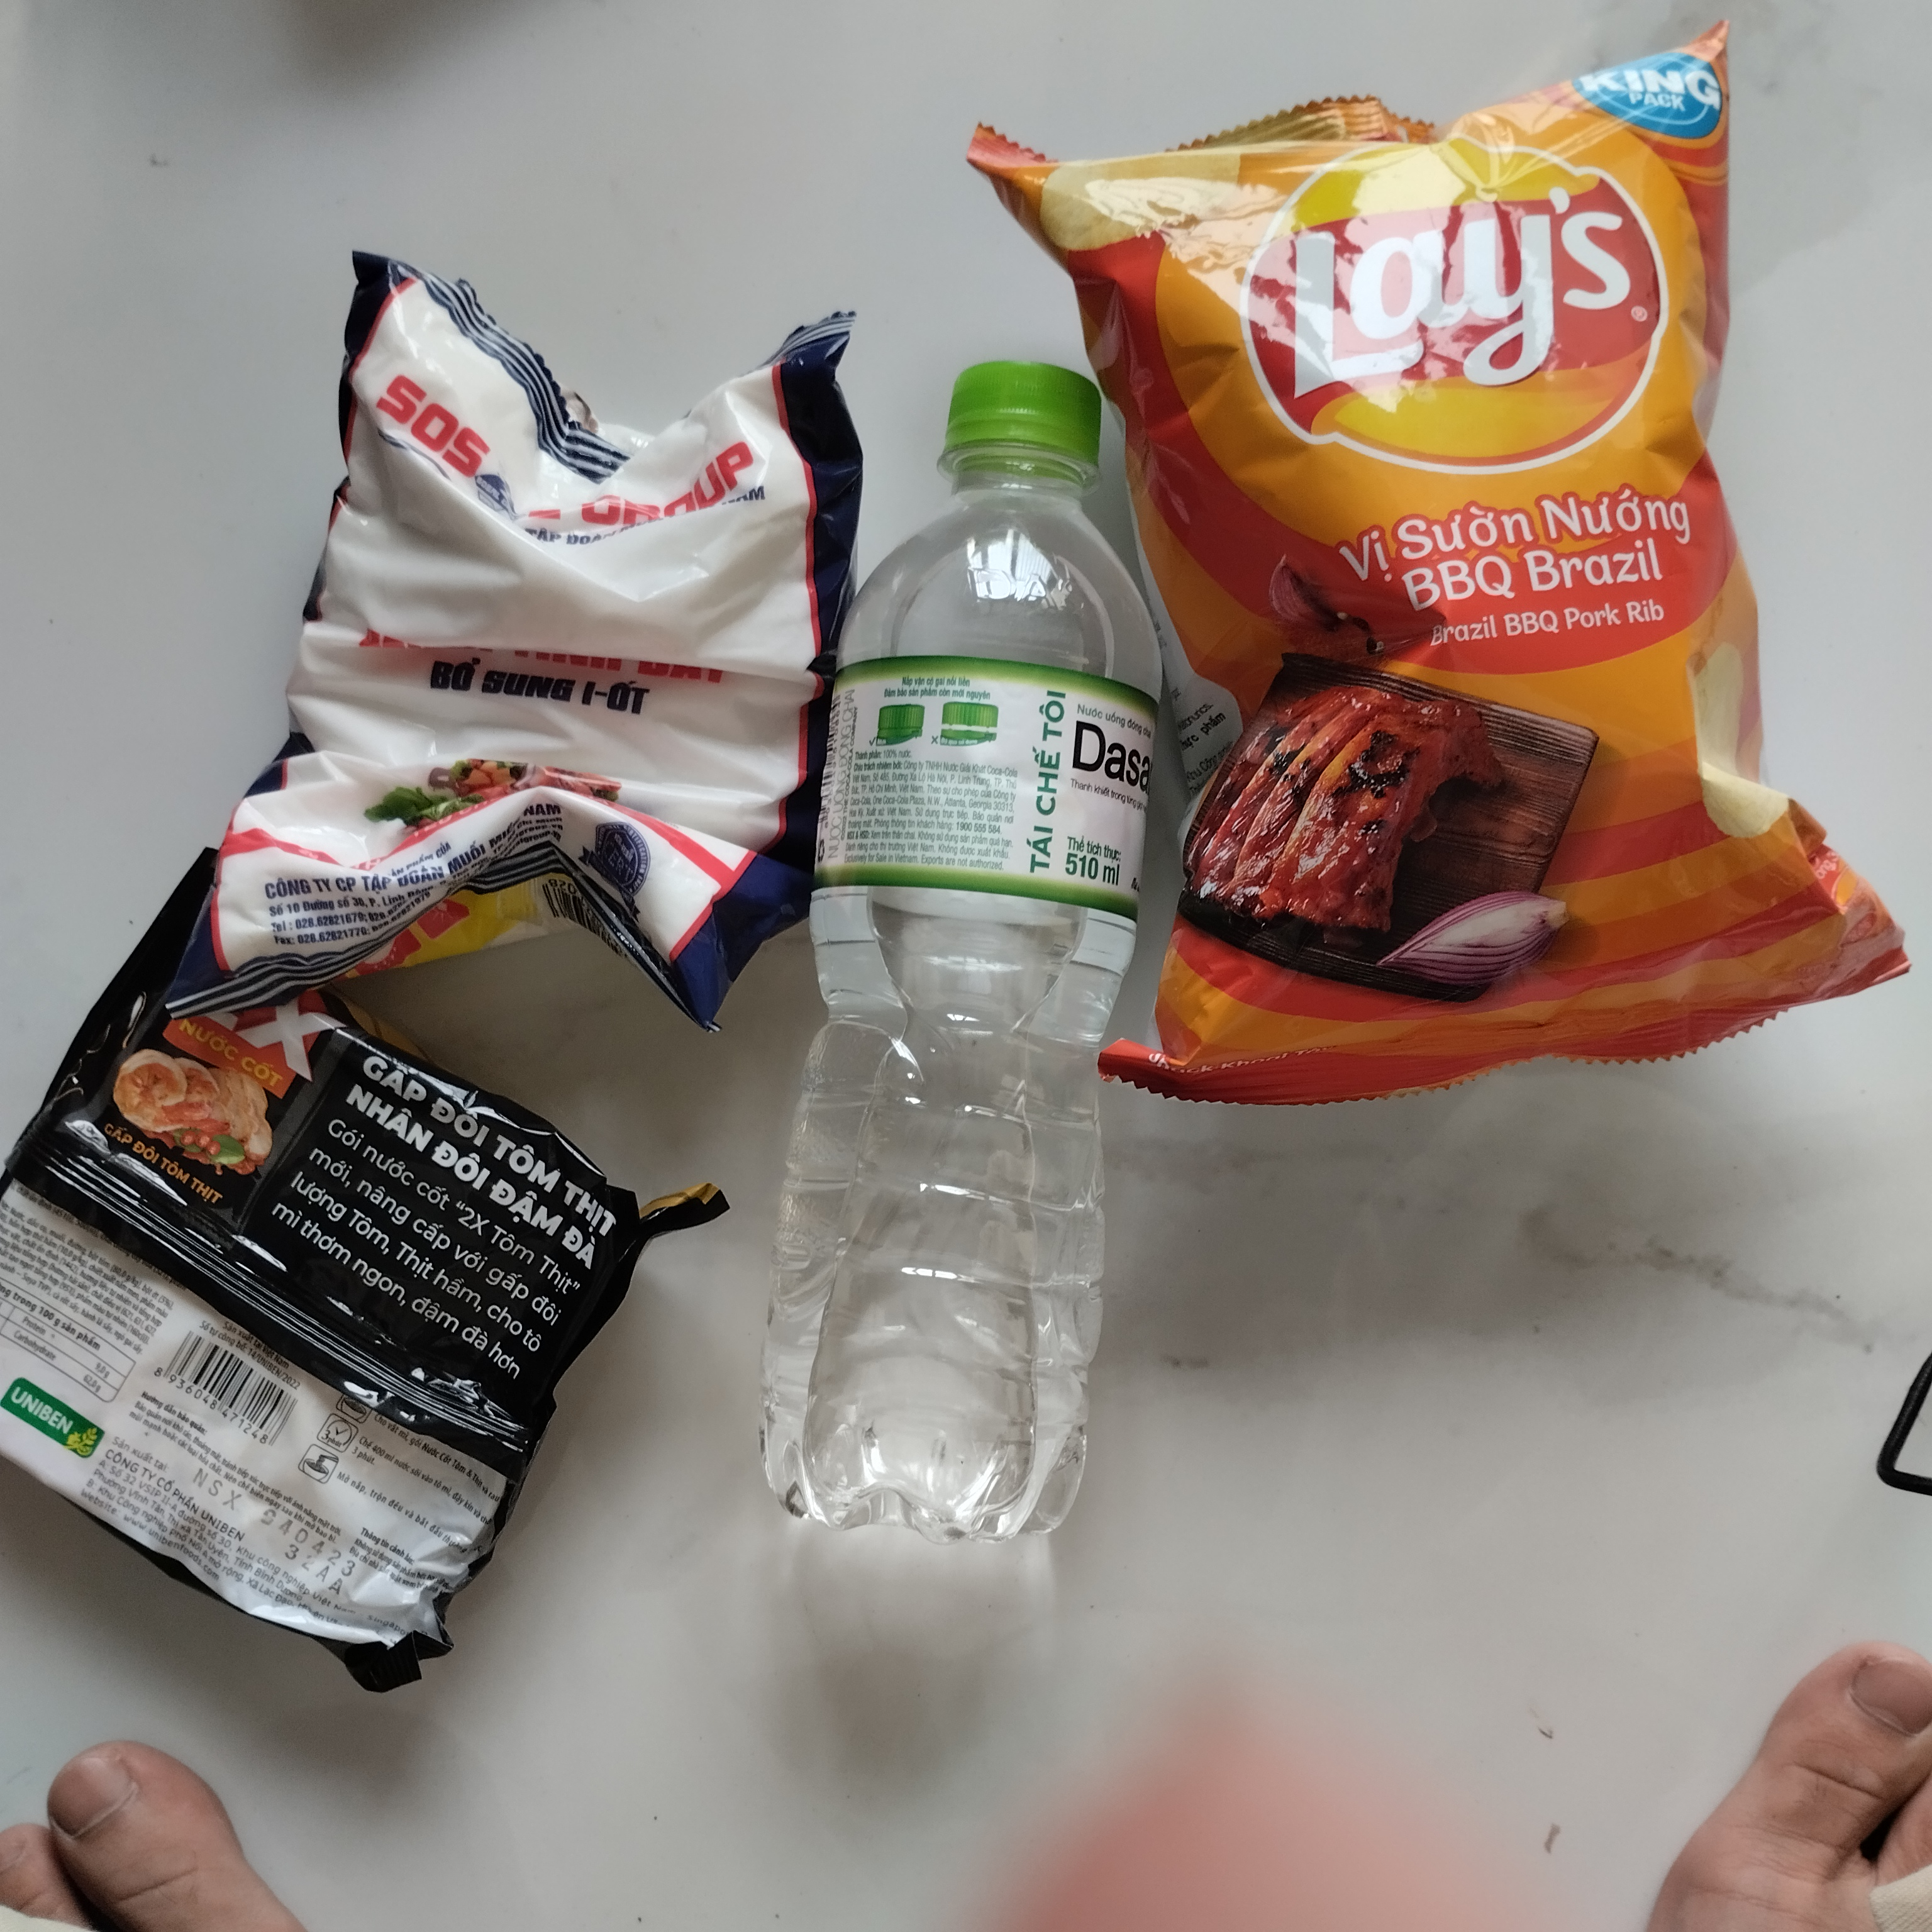3mien: (7, 832, 738, 1693)
Dasani: (755, 357, 1169, 1546)
Lays: (950, 32, 1921, 1100)
Salt: (157, 239, 863, 1030)
